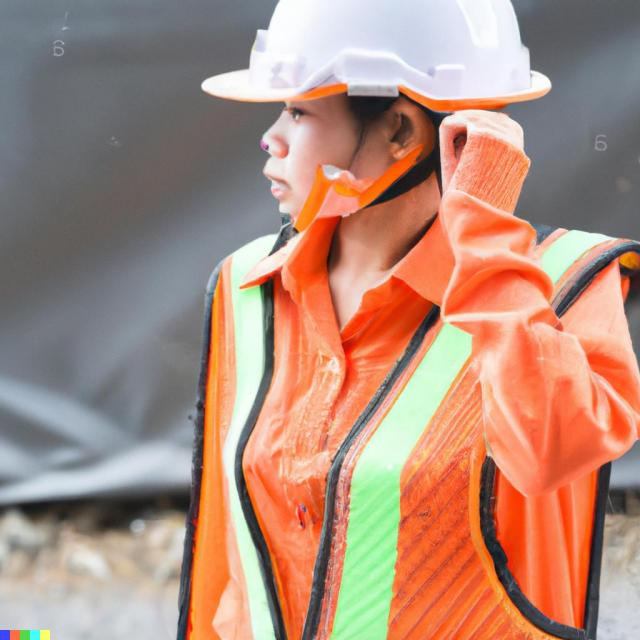Reflective-Jacket: (175, 184, 640, 640)
Safety-Helmet: (206, 0, 553, 114)
